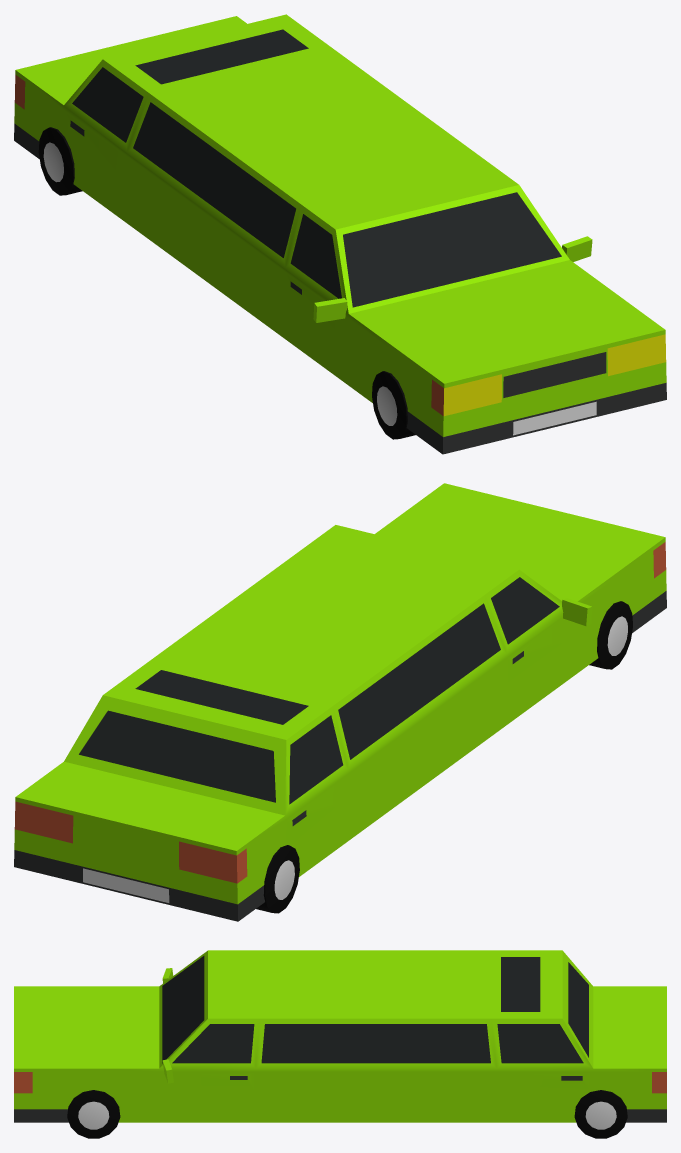
File: Limo.fbx
3 renders of one model, top to bottom at view 1: azimuth 30°, elevation 25°; view 2: azimuth 150°, elevation 25°; view 3: azimuth 270°, elevation 25°, orthographic. The views are drawn at different scales.
Parts seen in each view (by area): view 1: Body1, WheelRR, WheelFR; view 2: Body1, WheelRR, WheelFR; view 3: Body1, WheelFL, WheelRL.
Part boxes in pixels (box(x1,y1,x2,y2)): Body1: box(14, 14, 666, 454); WheelRR: box(38, 127, 82, 195); WheelFR: box(372, 371, 415, 439); Body1: box(14, 483, 666, 921); WheelRR: box(256, 845, 299, 913); WheelFR: box(589, 601, 632, 669); Body1: box(14, 950, 666, 1122); WheelFL: box(67, 1090, 120, 1138); WheelRL: box(574, 1090, 627, 1138).
Size of the model in its own units: 4.62 by 2.36 by 12.47.
